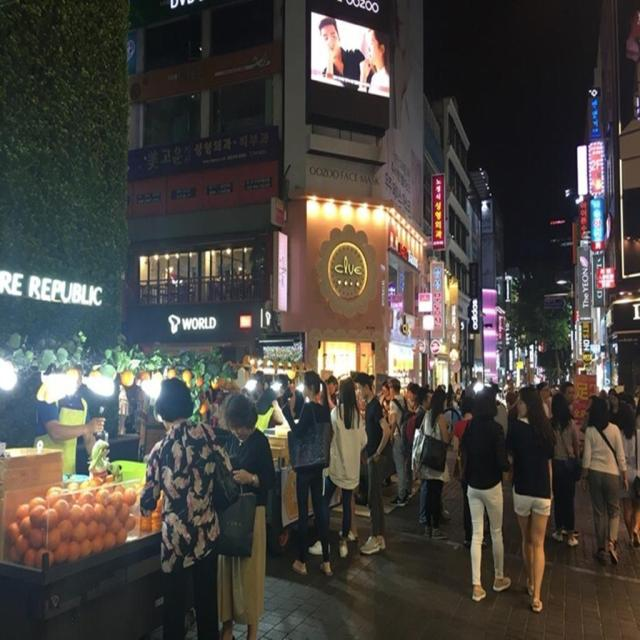body: (136, 374, 232, 639), (215, 391, 277, 639), (502, 381, 560, 614), (306, 374, 370, 560), (460, 384, 512, 604), (286, 368, 337, 582), (31, 361, 108, 476), (580, 393, 628, 566), (352, 370, 392, 555), (451, 393, 494, 550), (315, 13, 396, 94), (416, 384, 453, 543), (410, 384, 450, 528), (548, 392, 580, 548), (613, 396, 639, 552), (386, 377, 414, 508), (257, 366, 300, 422), (400, 379, 420, 499), (203, 385, 226, 416), (606, 383, 622, 412), (502, 373, 516, 406), (323, 372, 338, 402), (371, 373, 388, 398), (381, 378, 391, 419), (446, 380, 462, 405), (540, 377, 552, 401), (566, 376, 576, 402)
